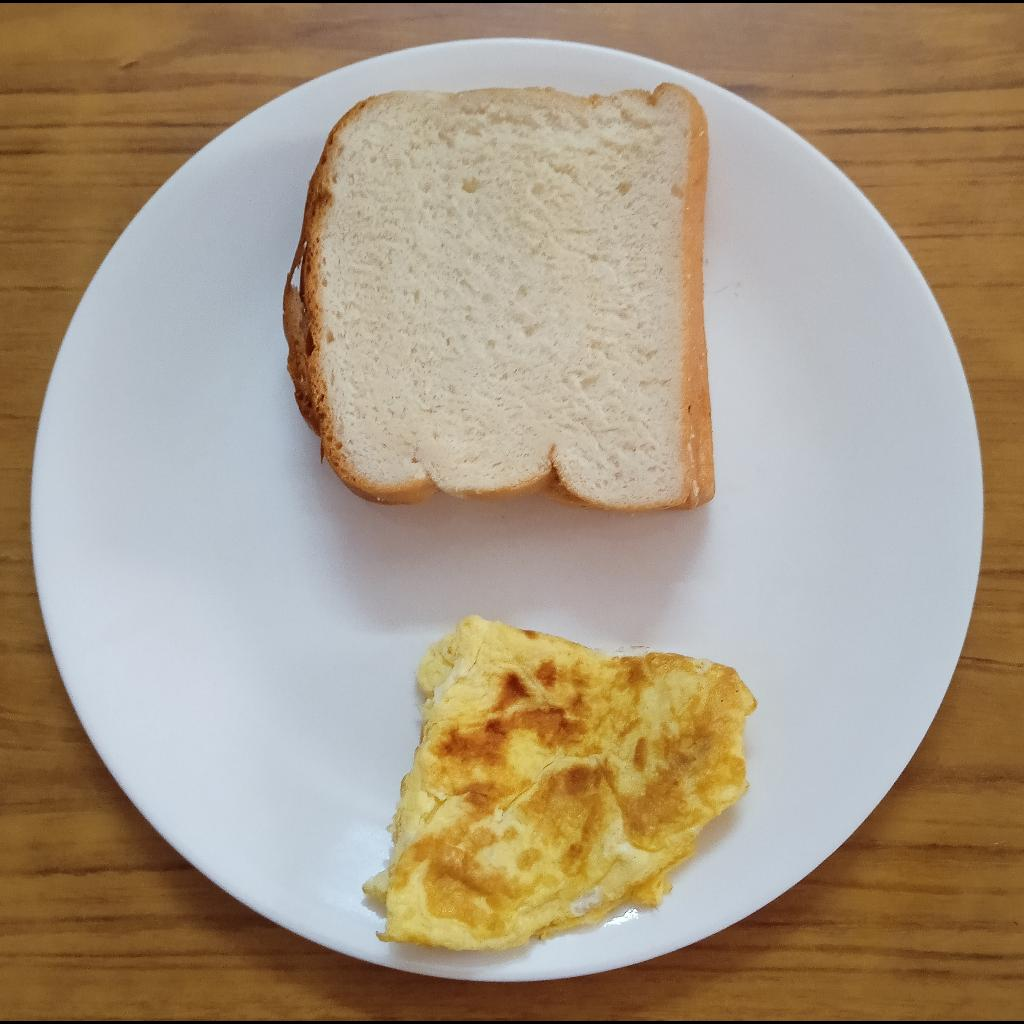bread: (282, 84, 715, 515)
egg-poached: (362, 614, 758, 952)
